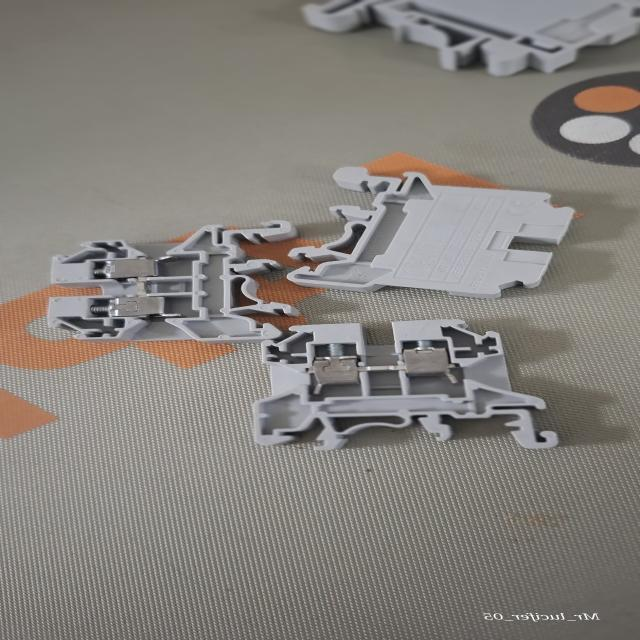Inverted: (284, 165, 576, 298)
Pass: (246, 320, 560, 454), (41, 215, 296, 343)
